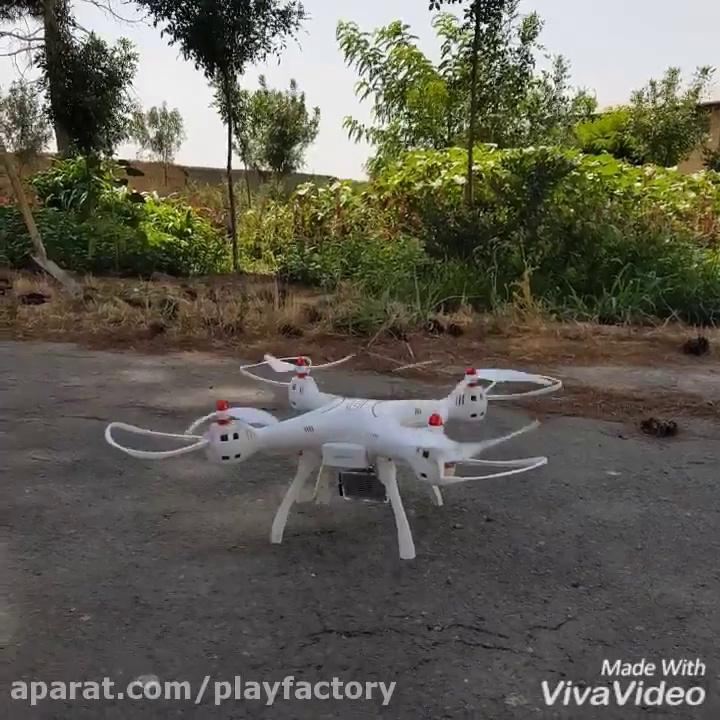drone: (102, 353, 564, 557)
